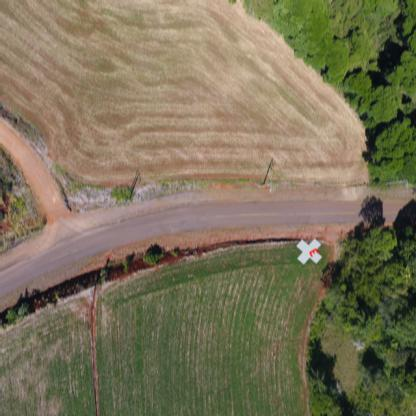E: (308, 248, 319, 258)
plus: (295, 238, 323, 267)
